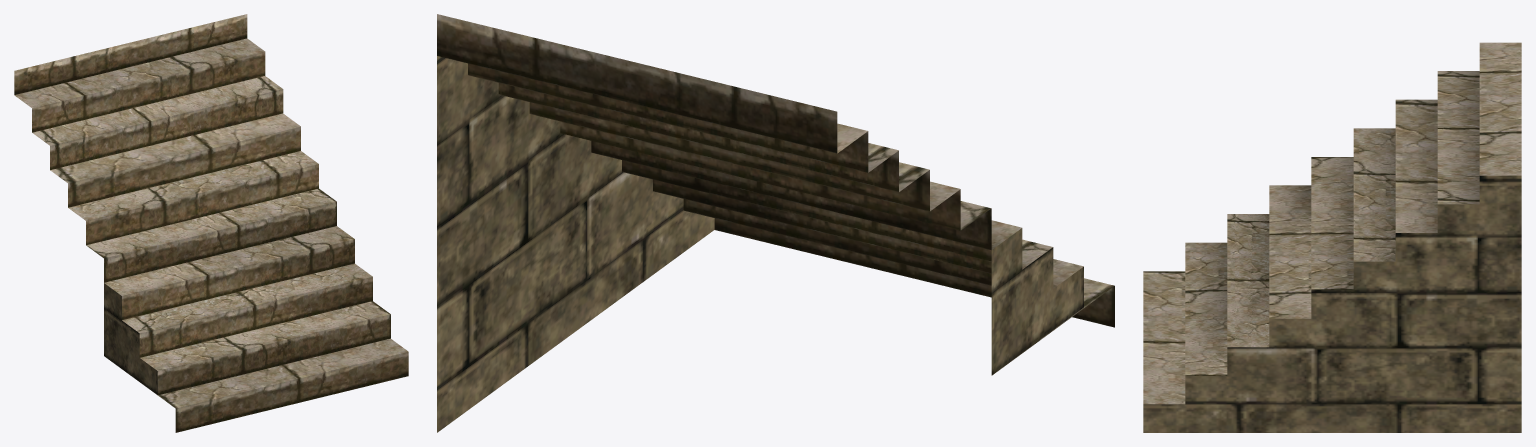
File: OVERHILL_A_01_OH_DWARFSTEP948.fbx
3 views of the same model, side by side, from view 1: azimuth 30°, elevation 25°; view 2: azimuth 150°, elevation 25°; view 3: azimuth 270°, elevation 25° (orthographic). The views are drawn at different scales.
Visible parts, largest first — view 1: OVERHILL_A_01_OH_DWARFSTEP948; view 2: OVERHILL_A_01_OH_DWARFSTEP948; view 3: OVERHILL_A_01_OH_DWARFSTEP948.
Boxes of the visible parts, x1,y1,x2,y2 form: OVERHILL_A_01_OH_DWARFSTEP948: (14,14,408,432); OVERHILL_A_01_OH_DWARFSTEP948: (437,14,1114,432); OVERHILL_A_01_OH_DWARFSTEP948: (1143,42,1521,432).
Bounding box in the file's own units: 30000 × 30000 × 36000.
Materials: 3 (3 with a texture image).
